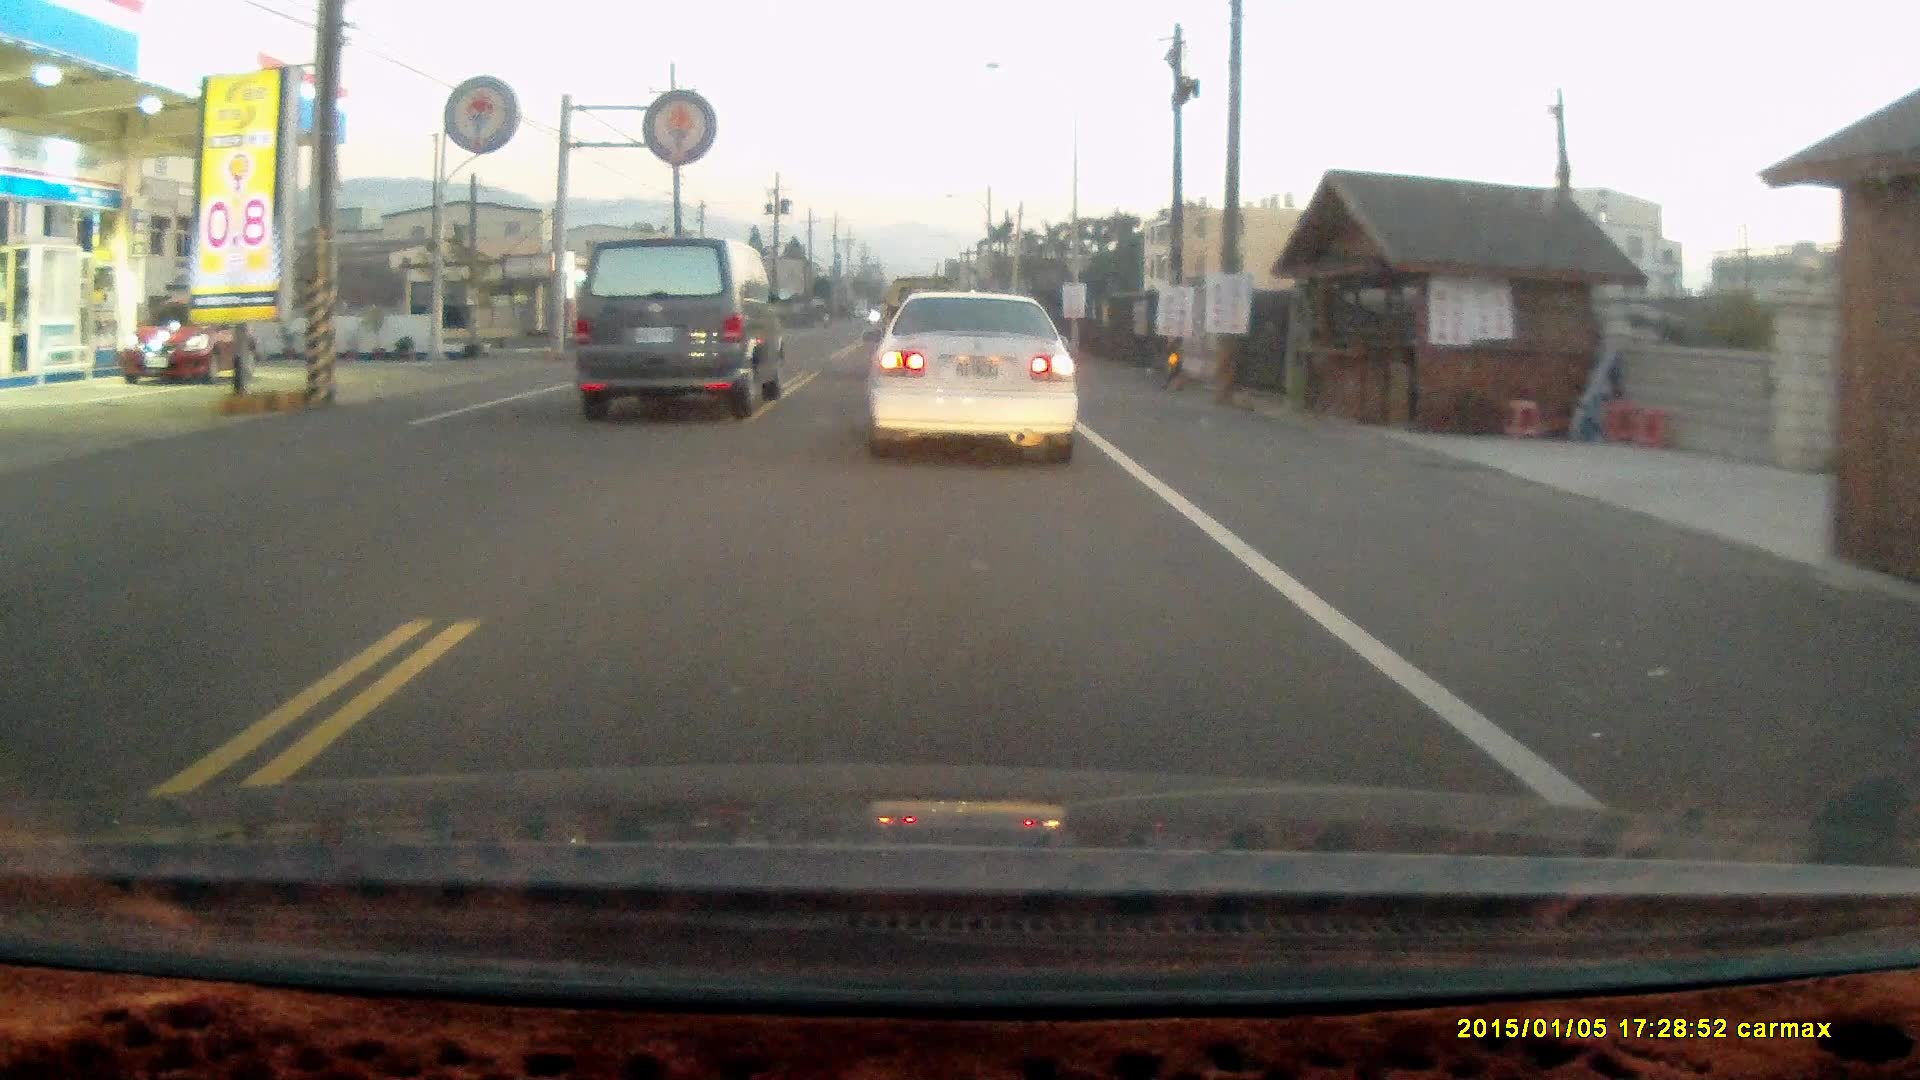vehicle: (862, 284, 1091, 465), (572, 236, 785, 415), (123, 293, 258, 388)
